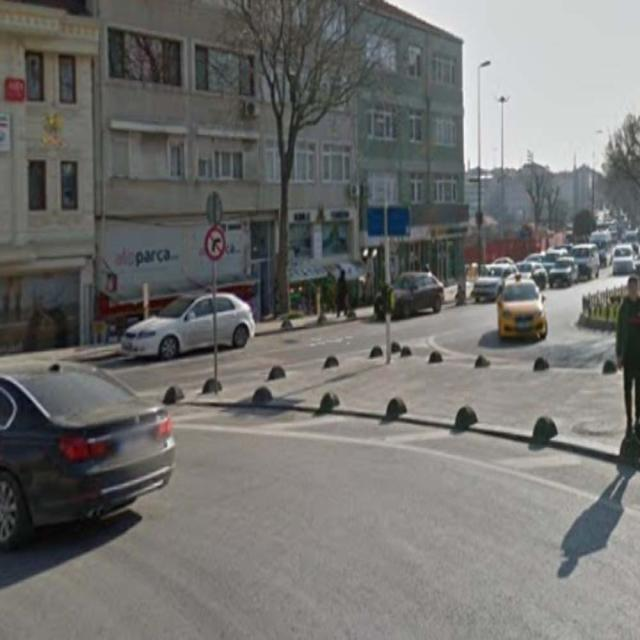sagadonulmez: (205, 229, 225, 259)
